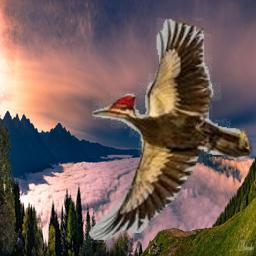Woodpecker: (88, 17, 253, 243)
